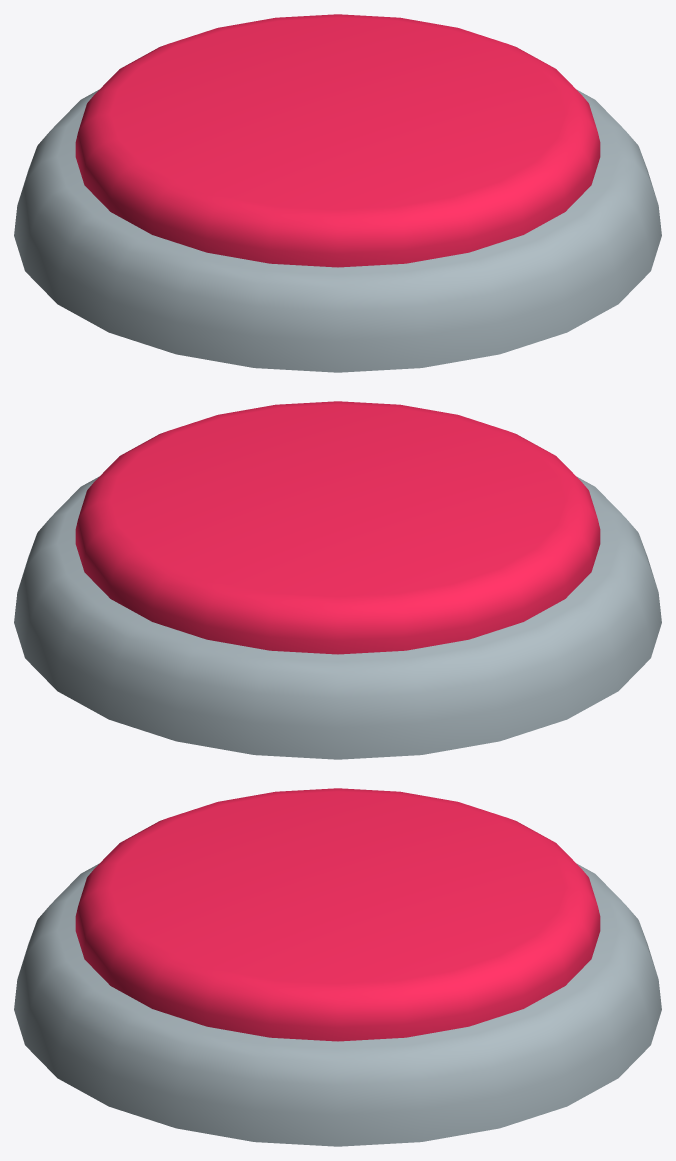
Rendered from button_teamRed-col.glb.
3 views of the same model, one above another, from view 1: azimuth 30°, elevation 25°; view 2: azimuth 150°, elevation 25°; view 3: azimuth 270°, elevation 25° (orthographic).
Parts seen in each view (by area): view 1: button_teamRed-col; view 2: button_teamRed-col; view 3: button_teamRed-col.
Boxes of the visible parts, x1,y1,x2,y2 form: button_teamRed-col: (14,14,661,372); button_teamRed-col: (14,401,661,759); button_teamRed-col: (14,788,661,1146).
Size of the model in its own units: 1.63 by 0.3395 by 1.63.
